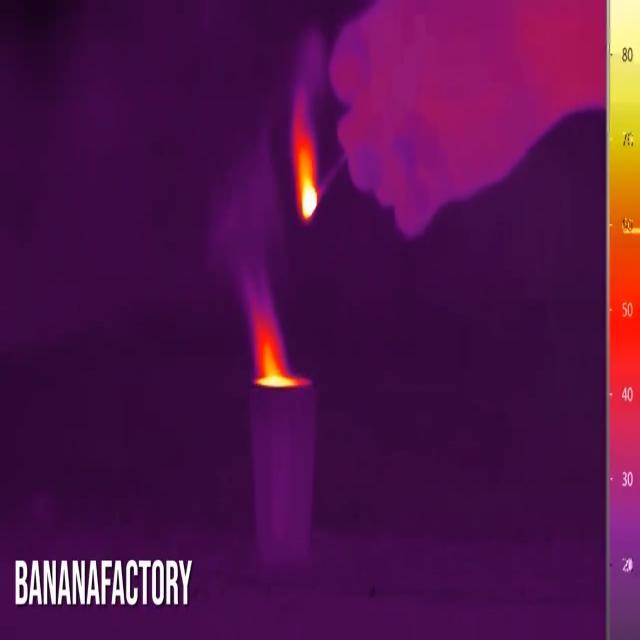fire: (251, 309, 300, 393), (295, 105, 324, 225)
